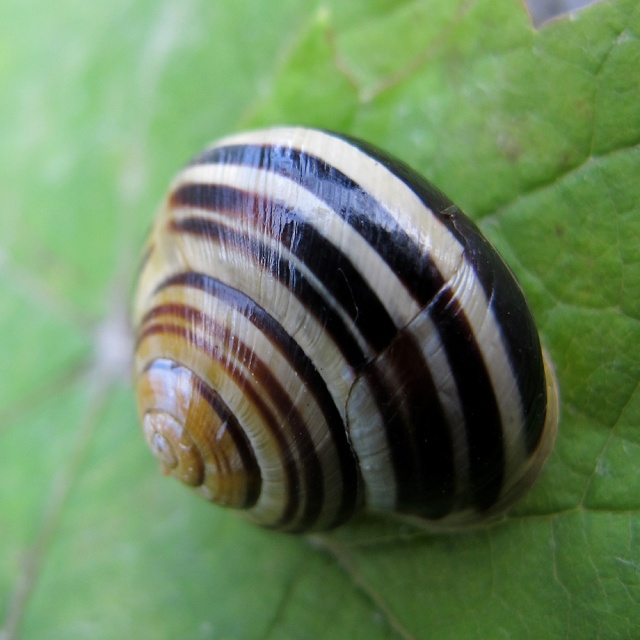Snail: (130, 125, 559, 531)
